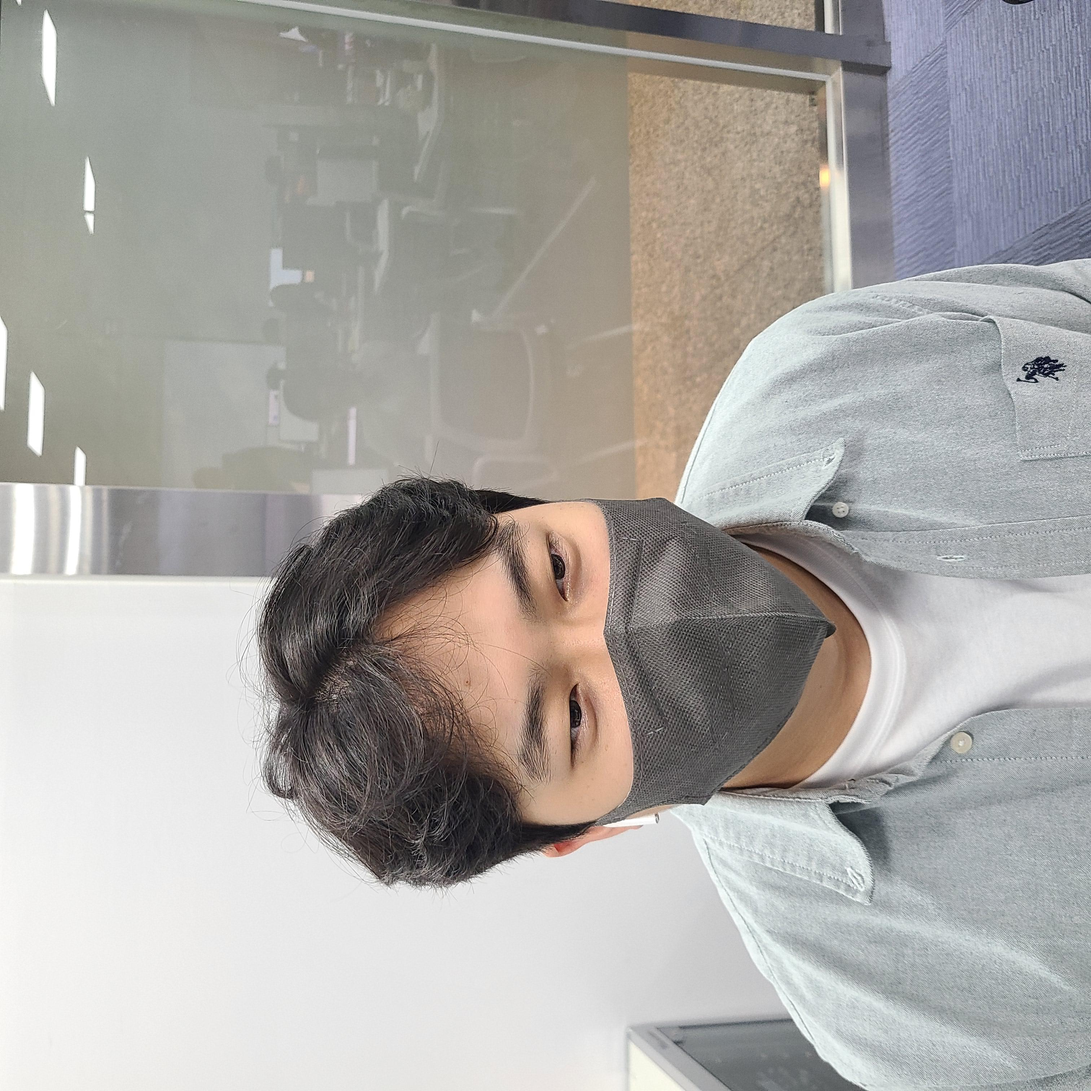earphone: (251, 594, 288, 662)
